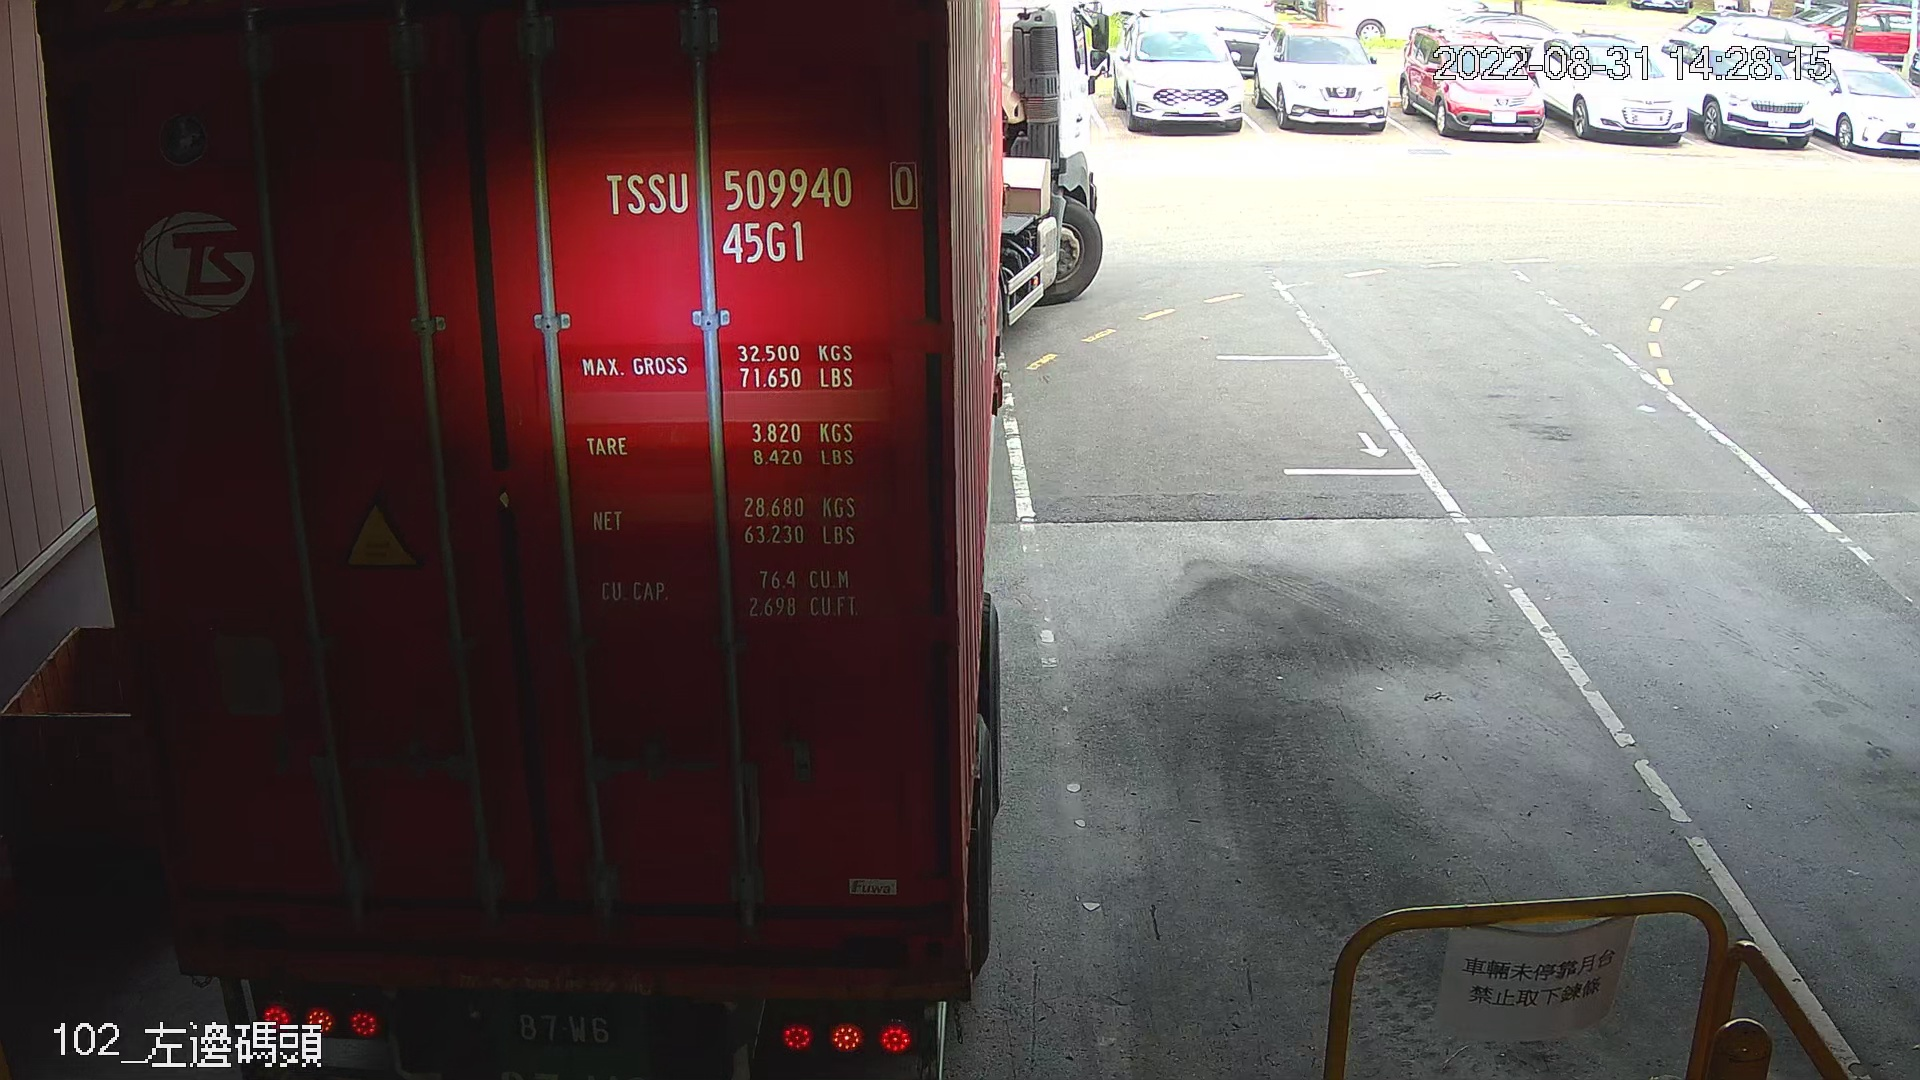container: (587, 152, 928, 280)
